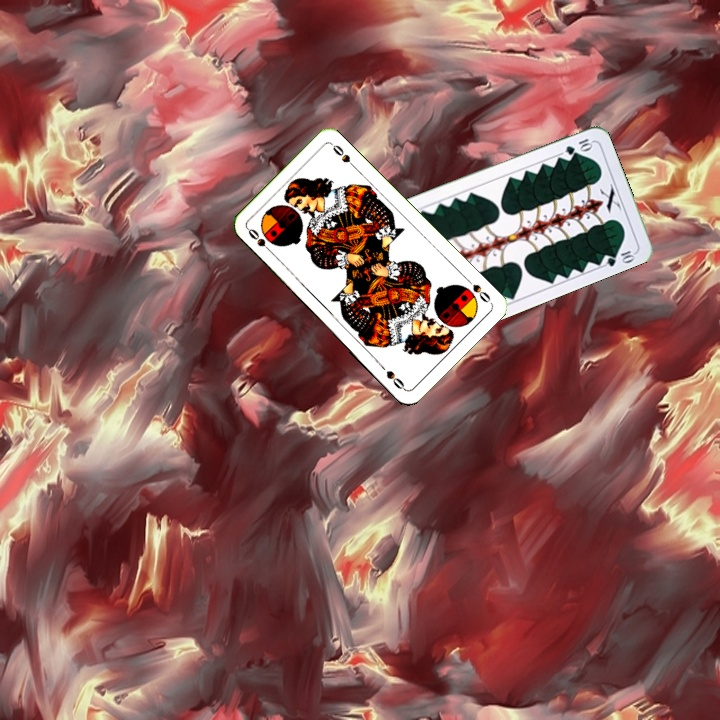G10: (561, 134, 595, 157)
SO: (462, 273, 494, 306), (244, 225, 276, 257)
